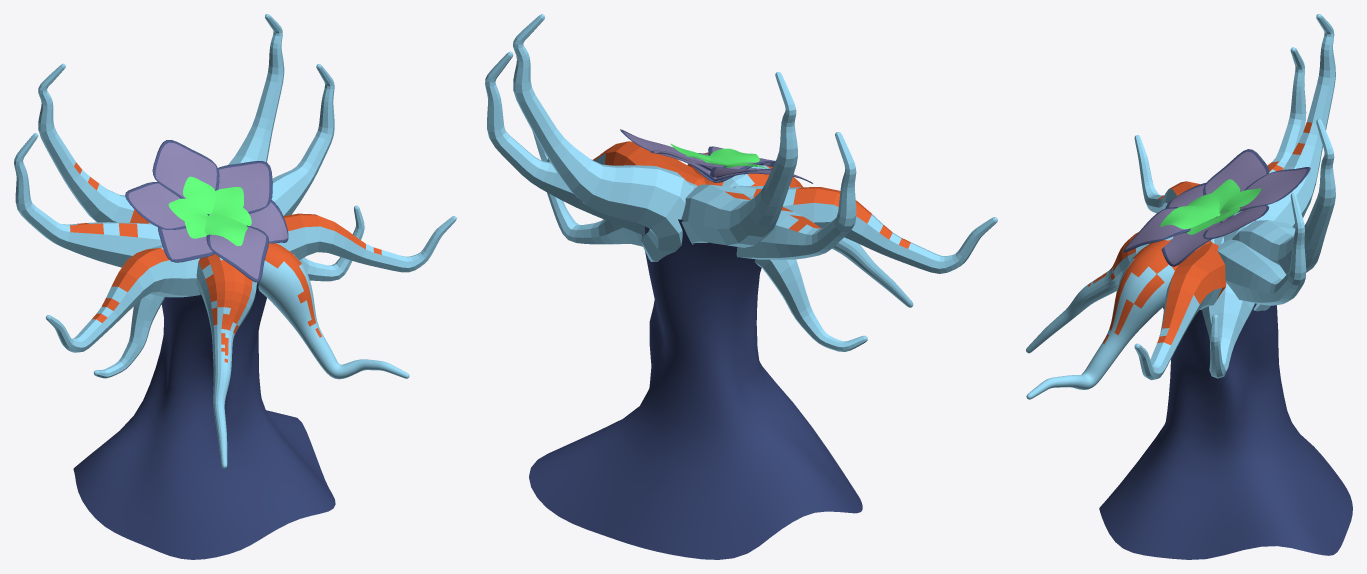
File: coral 3.fbx
The picture shows the model from 3 angles, left to right: view 1: azimuth 30°, elevation 25°; view 2: azimuth 150°, elevation 25°; view 3: azimuth 270°, elevation 25°; orthographic projection. The views are drawn at different scales.
Visible parts, largest first — view 1: Circle, Plane.007, Plane.009, Plane.004, Plane.006, Plane.002, Plane.005, Plane.001, Plane, Plane.010, Plane.011, Plane.015 (+8 smaller); view 2: Circle, Plane, Plane.005, Plane.007, Plane.006, Plane.001, Plane.008, Plane.009, Plane.003, Plane.002, Plane.011; view 3: Circle, Plane.004, Plane.002, Plane.001, Plane, Plane.005, Plane.003, Plane.009, Plane.006, Plane.013, Plane.010, Plane.007 (+7 smaller).
Boxes of the visible parts, box(x1,y1,x2,y2) form: Circle: box(73, 283, 335, 559); Plane.007: box(45, 245, 200, 352); Plane.009: box(196, 254, 256, 468); Plane.004: box(257, 243, 409, 379); Plane.006: box(14, 133, 162, 267); Plane.002: box(276, 213, 456, 272); Plane.005: box(38, 63, 151, 223); Plane.001: box(271, 64, 334, 215); Plane: box(227, 14, 284, 165); Plane.010: box(152, 140, 219, 215); Plane.011: box(218, 161, 272, 213); Plane.015: box(206, 225, 269, 282); Circle: box(529, 219, 862, 559); Plane: box(513, 14, 693, 261); Plane.005: box(681, 72, 797, 247); Plane.007: box(733, 185, 997, 273); Plane.006: box(736, 132, 856, 259); Plane.001: box(485, 51, 697, 235); Plane.008: box(754, 259, 867, 351); Plane.009: box(722, 165, 913, 307); Plane.003: box(547, 158, 642, 246); Plane.002: box(532, 131, 706, 186); Plane.011: box(620, 129, 715, 180); Circle: box(1099, 303, 1352, 559); Plane.004: box(1026, 236, 1211, 399); Plane.002: box(1134, 242, 1226, 380); Plane.001: box(1217, 193, 1306, 305); Plane: box(1231, 119, 1335, 311); Plane.005: box(1223, 14, 1335, 242); Plane.003: box(1201, 283, 1255, 378); Plane.009: box(1026, 232, 1212, 353); Plane.006: box(1214, 47, 1306, 245); Plane.013: box(1203, 149, 1269, 222); Plane.010: box(1227, 167, 1310, 212); Plane.007: box(1134, 135, 1214, 243).
Bounding box in the file's own units: 157 × 159 × 103.
